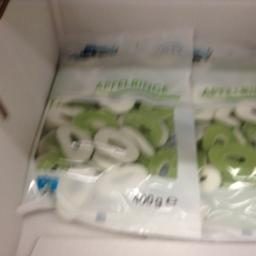candy: (24, 30, 202, 233), (156, 66, 254, 239)
